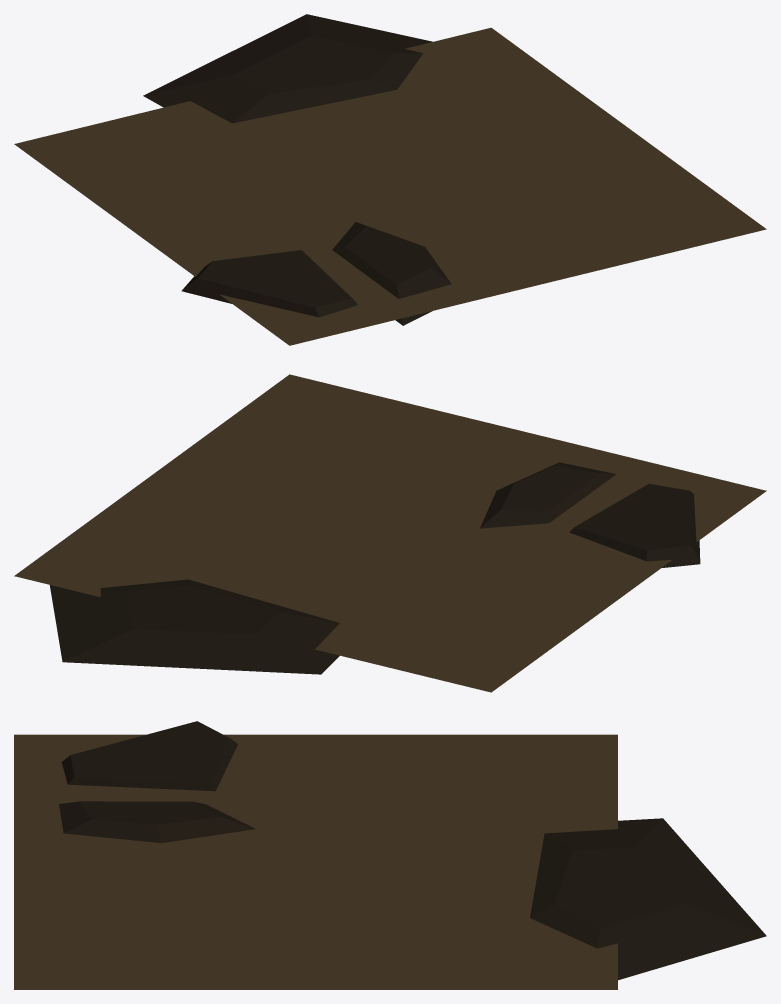
File: Floor.013.fbx
The picture shows the model from 3 angles, top to bottom: view 1: azimuth 30°, elevation 25°; view 2: azimuth 150°, elevation 25°; view 3: azimuth 270°, elevation 25°; orthographic projection. The views are drawn at different scales.
Parts seen in each view (by area): view 1: Floor.013; view 2: Floor.013; view 3: Floor.013.
Boxes of the visible parts, <box> form: Floor.013: <box>14,14,766,345</box>; Floor.013: <box>14,374,766,692</box>; Floor.013: <box>14,721,766,989</box>.
Bounding box in the file's own units: 104 × 4.08 × 125.
